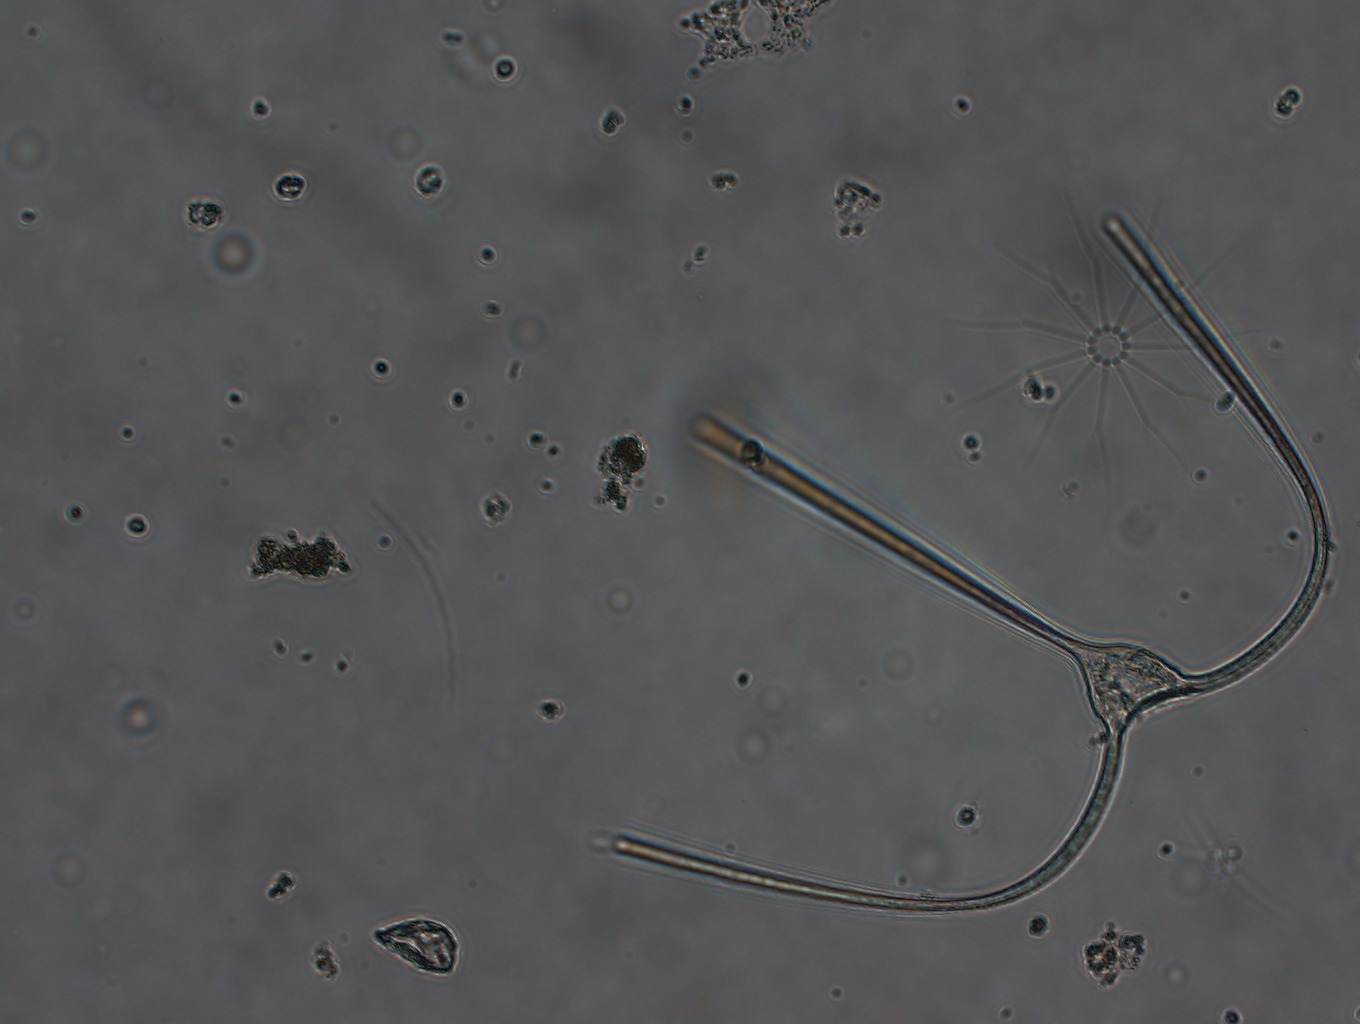bacteriastrum: (975, 179, 1259, 481)
ceratium trichoceros: (596, 194, 1337, 922)
